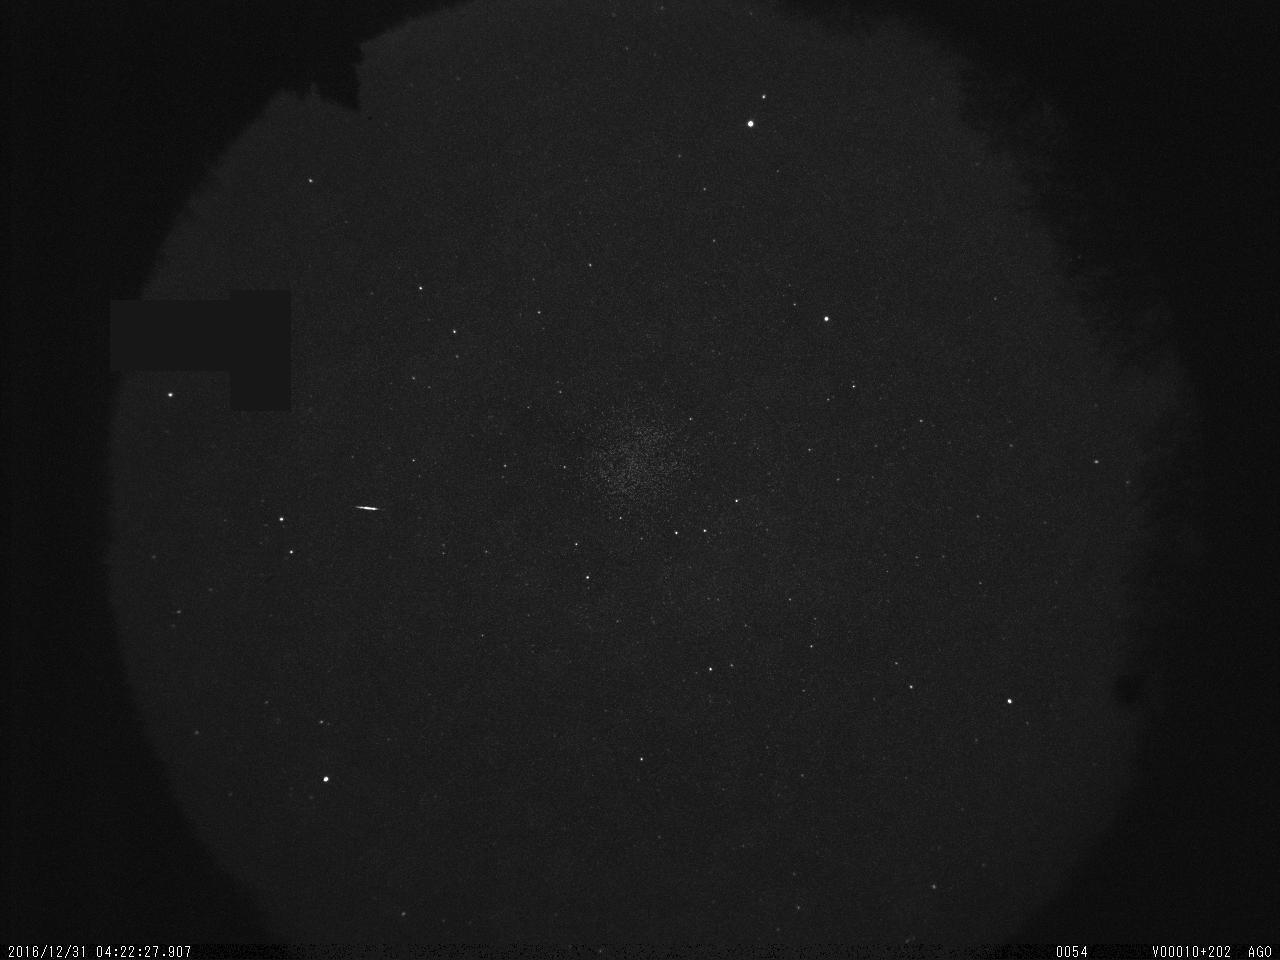meteor: (342, 491, 392, 526)
